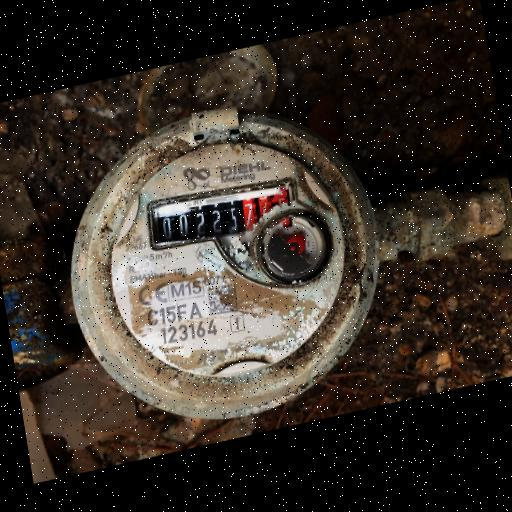0: (173, 208, 199, 243), (155, 213, 179, 245)
2: (190, 202, 214, 241), (205, 200, 229, 237)
5: (221, 198, 245, 236)
7: (241, 197, 260, 231)
border_water_meter_number: (148, 174, 298, 255)
